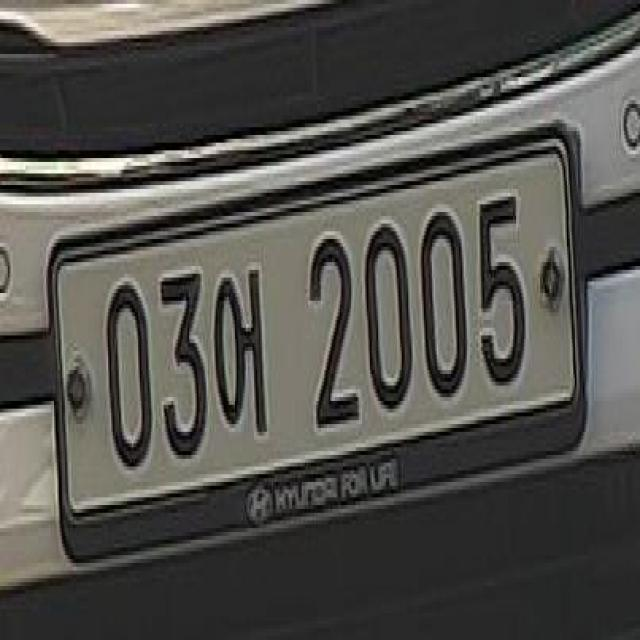illegal_plate: (49, 137, 588, 552)
